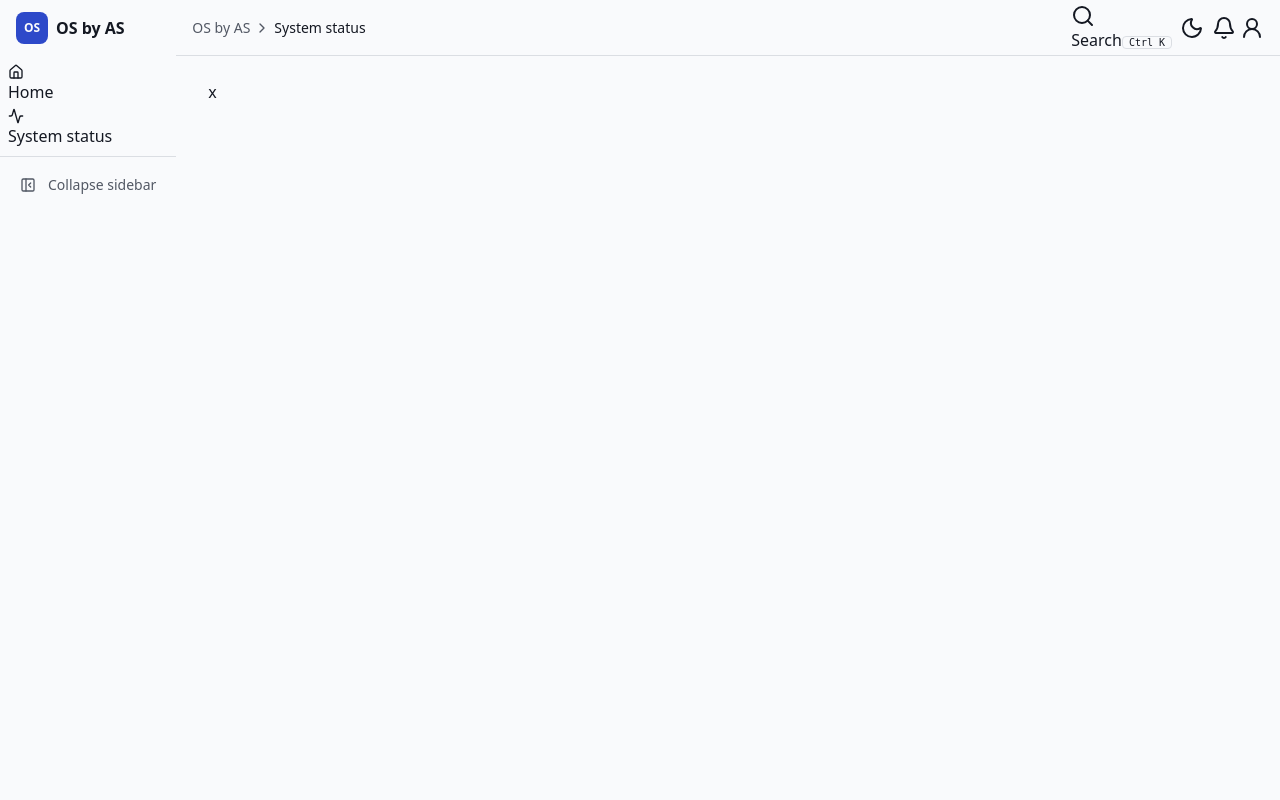
Scenario: AppShell › shows an empty state when nothing matches
Type keys "{Meta>}k{/Meta}"
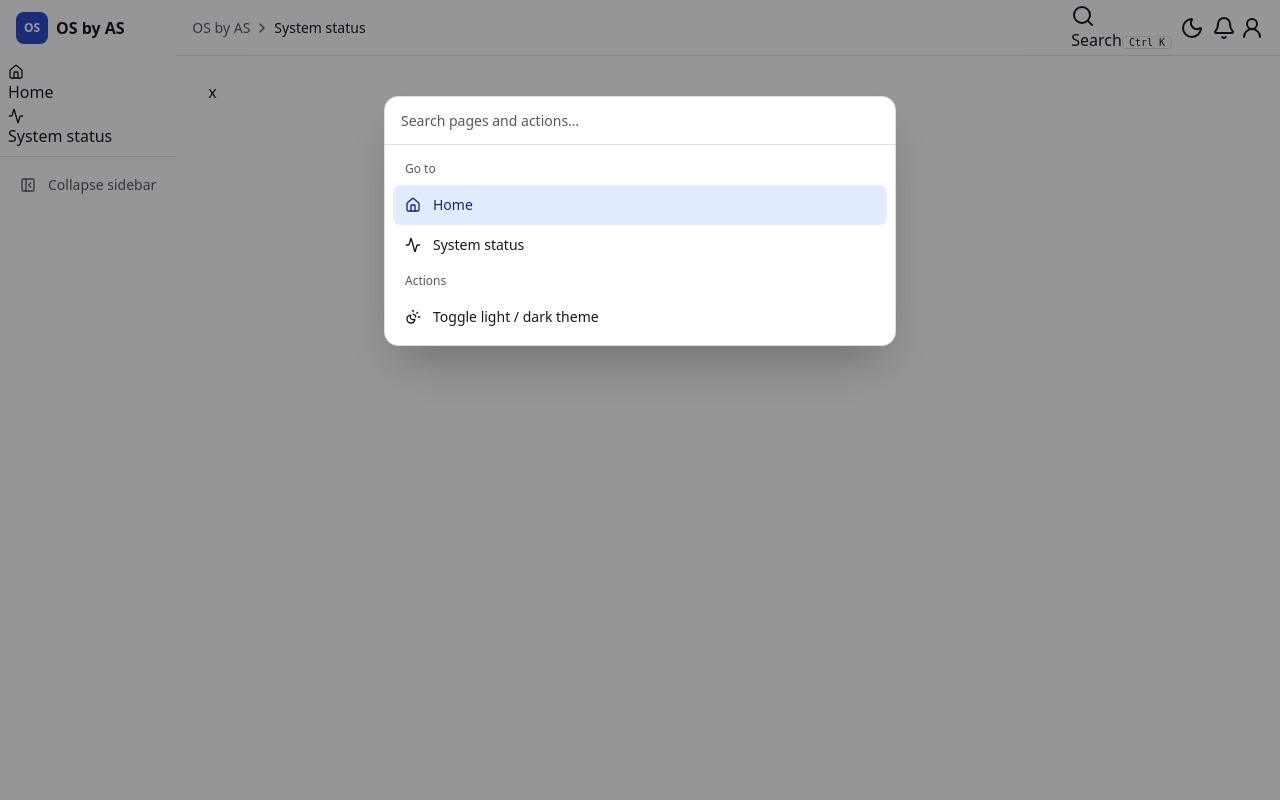
Type "zzzz-nothing" into the dropdown at (640, 121), box x1=385 y1=97 x2=895 y2=145
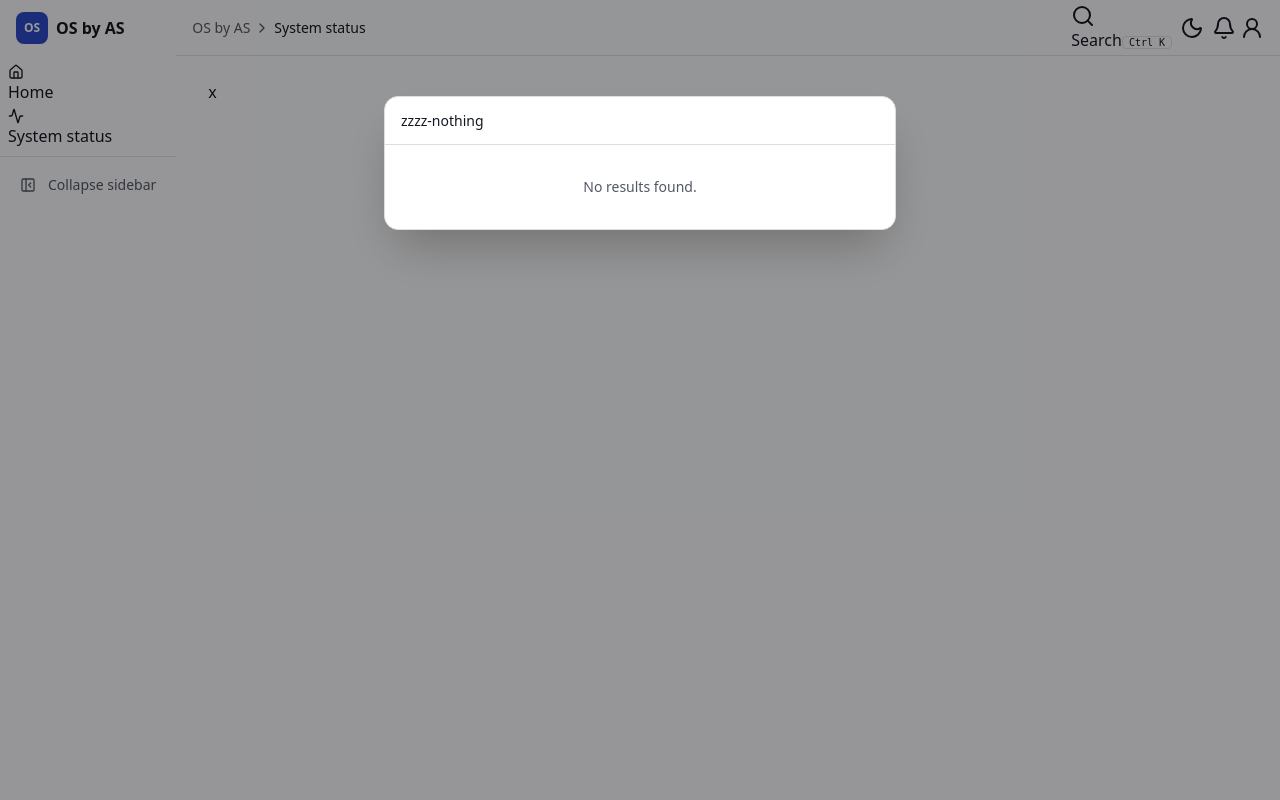
Expected: the text "No results found." is shown, x1=583 y1=177 x2=697 y2=196
